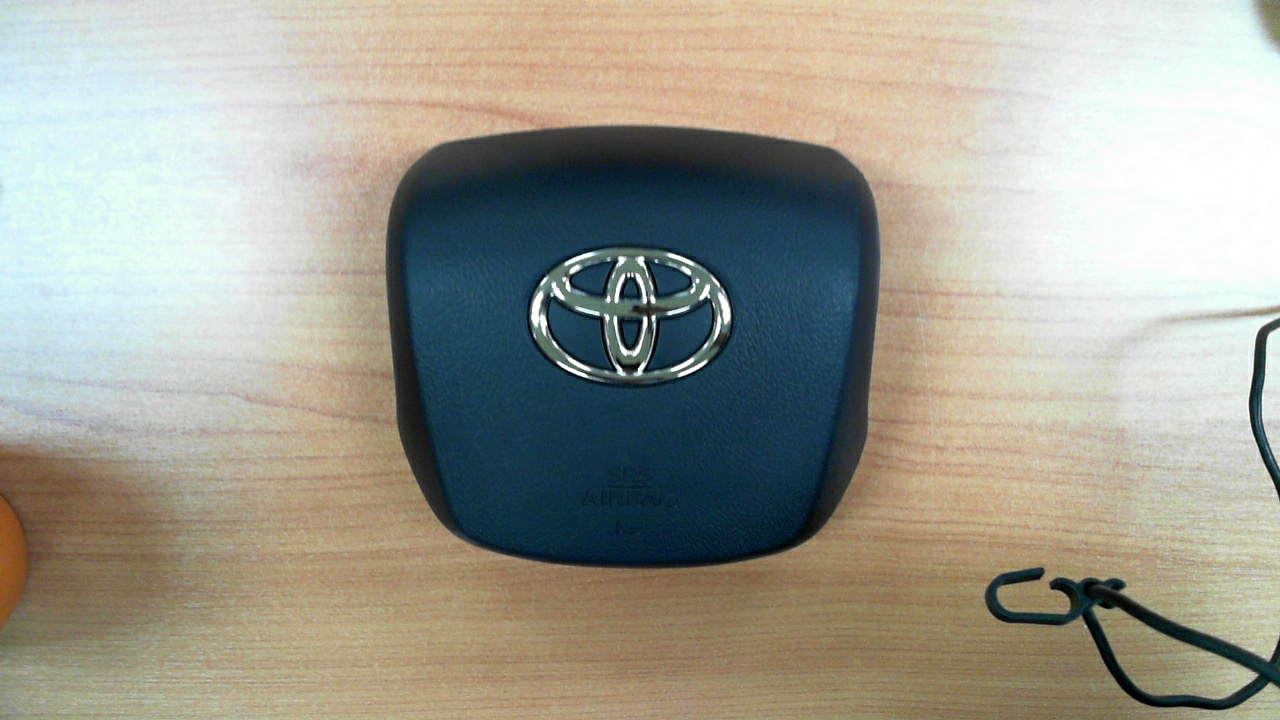Airbag: (352, 105, 909, 602)
